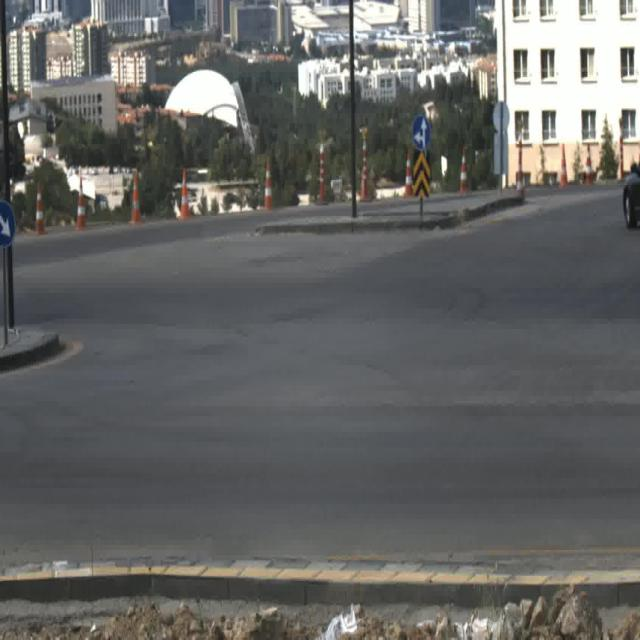Car: (622, 154, 639, 228)
